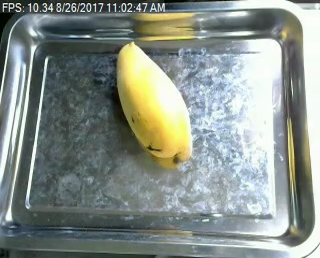Mango: (110, 40, 201, 168)
